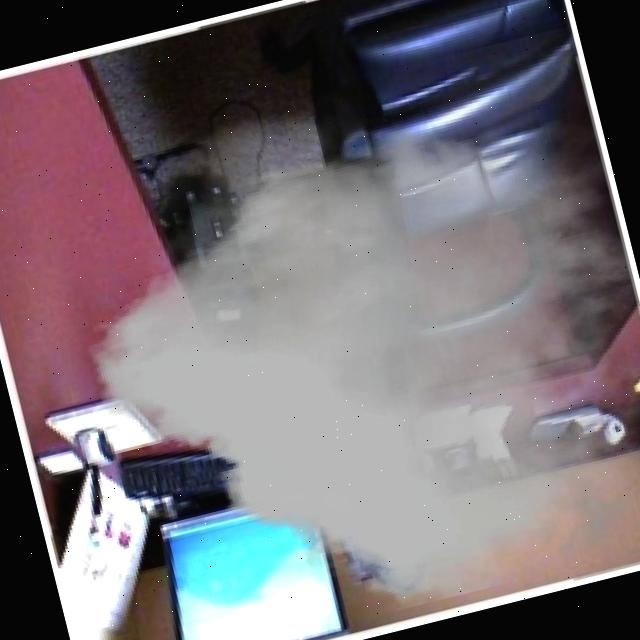smoke: (41, 25, 640, 640)
